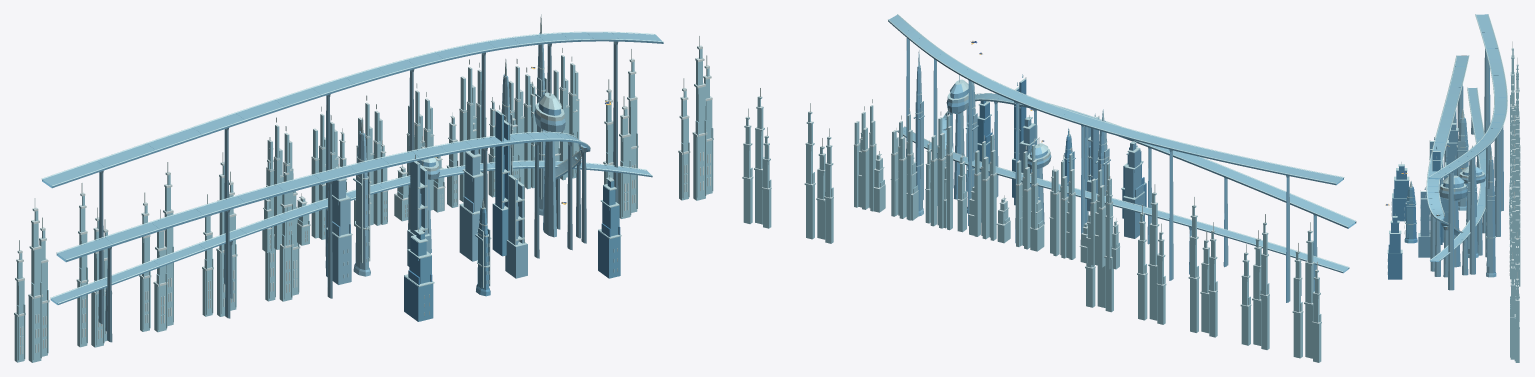
Rendered from orbital_city.glb.
The picture shows the model from 3 angles, left to right: view 1: azimuth 30°, elevation 25°; view 2: azimuth 150°, elevation 25°; view 3: azimuth 270°, elevation 25°; orthographic projection. The views are drawn at different scales.
Visible parts, largest first — view 1: V4_CityFarHaze, V4_CityMidBlue, V4_CityDeckBlue, V4_CityTrimIce, V4_CityMidShade, V4_CityFarLight, V4_CityDeckShade, V4_CityNearCerulean, V4_CityNearShade; view 2: V4_CityFarHaze, V4_CityMidShade, V4_CityDeckBlue, V4_CityMidBlue, V4_CityTrimIce, V4_CityFarLight, V4_CityDeckShade, V4_CityNearShade; view 3: V4_CityMidBlue, V4_CityDeckBlue, V4_CityMidShade, V4_CityFarHaze, V4_CityTrimIce, V4_CityNearShade, V4_CityFarLight, V4_CityNearCerulean, V4_CityDeckShade.
Boxes of the visible parts, <box> form: V4_CityFarHaze: <box>14,46,713,362</box>; V4_CityMidBlue: <box>99,23,618,342</box>; V4_CityDeckBlue: <box>42,32,661,303</box>; V4_CityTrimIce: <box>42,14,663,315</box>; V4_CityMidShade: <box>98,43,613,339</box>; V4_CityFarLight: <box>14,35,713,354</box>; V4_CityDeckShade: <box>42,33,663,304</box>; V4_CityNearCerulean: <box>404,115,620,321</box>; V4_CityNearShade: <box>404,111,620,321</box>; V4_CityFarHaze: <box>742,97,1321,362</box>; V4_CityMidShade: <box>906,38,1315,302</box>; V4_CityDeckBlue: <box>889,15,1355,271</box>; V4_CityMidBlue: <box>908,39,1317,301</box>; V4_CityTrimIce: <box>888,14,1356,271</box>; V4_CityFarLight: <box>743,88,1321,323</box>; V4_CityDeckShade: <box>888,20,1356,273</box>; V4_CityNearShade: <box>977,79,1146,218</box>; V4_CityMidBlue: <box>1420,49,1502,290</box>; V4_CityDeckBlue: <box>1427,14,1506,260</box>; V4_CityMidShade: <box>1418,65,1503,290</box>; V4_CityFarHaze: <box>1509,49,1520,362</box>; V4_CityTrimIce: <box>1387,14,1507,274</box>; V4_CityNearShade: <box>1388,152,1442,279</box>; V4_CityFarLight: <box>1509,41,1520,327</box>; V4_CityNearCerulean: <box>1387,146,1437,253</box>; V4_CityDeckShade: <box>1428,14,1506,261</box>.
Size of the model in its own units: 55.54 by 18.24 by 14.37.
